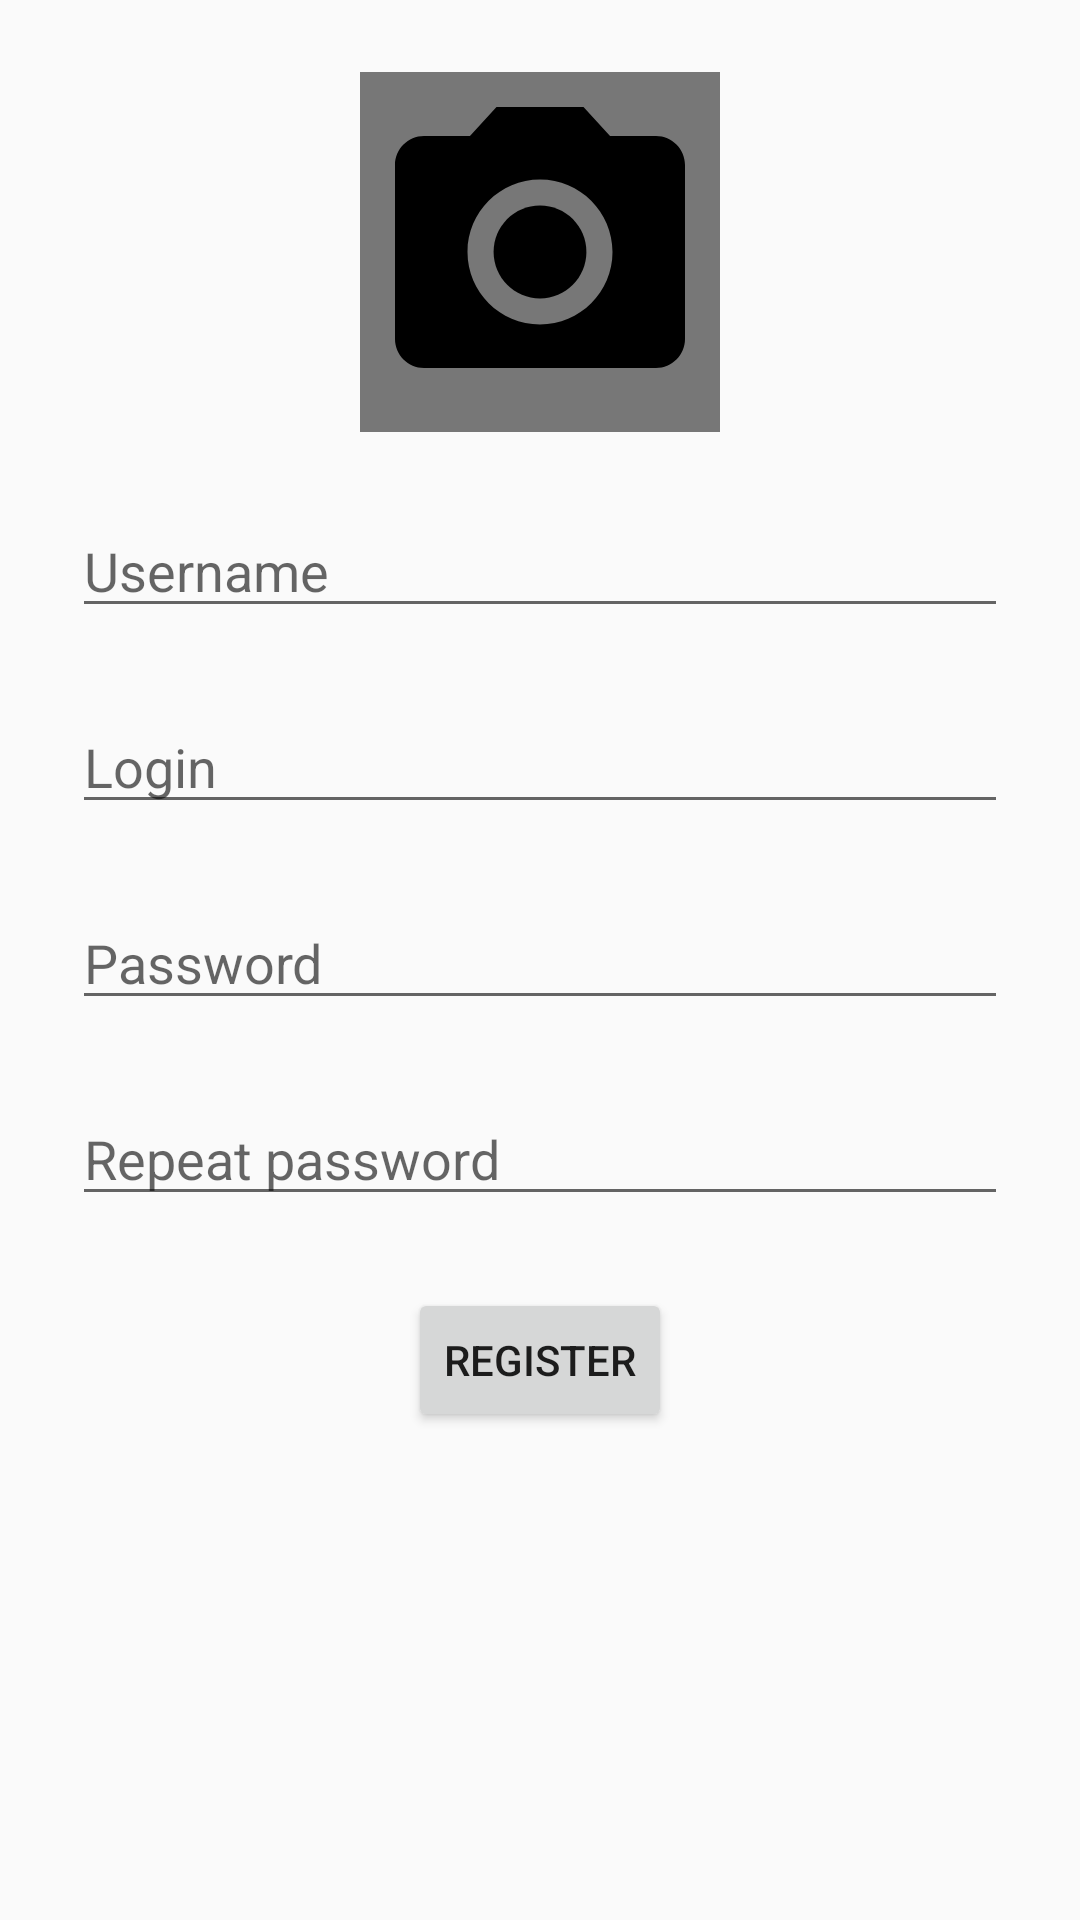

Screen size 1080x1920. Icon name, then its box in pixels as bbox=(x1, y1, x2, y2):
icset photocamera: bbox=(360, 72, 720, 432)
